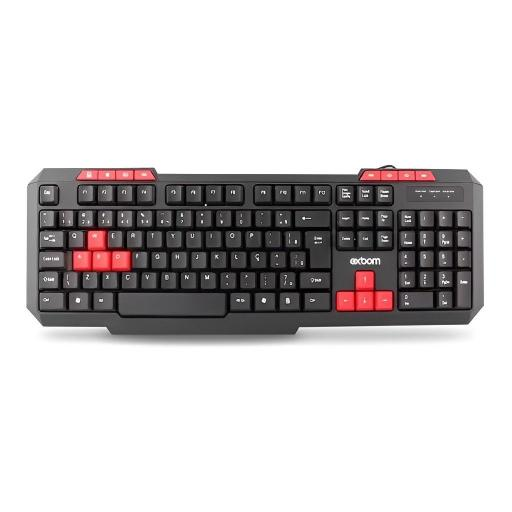KEYBOARD-2: (29, 142, 512, 348)
